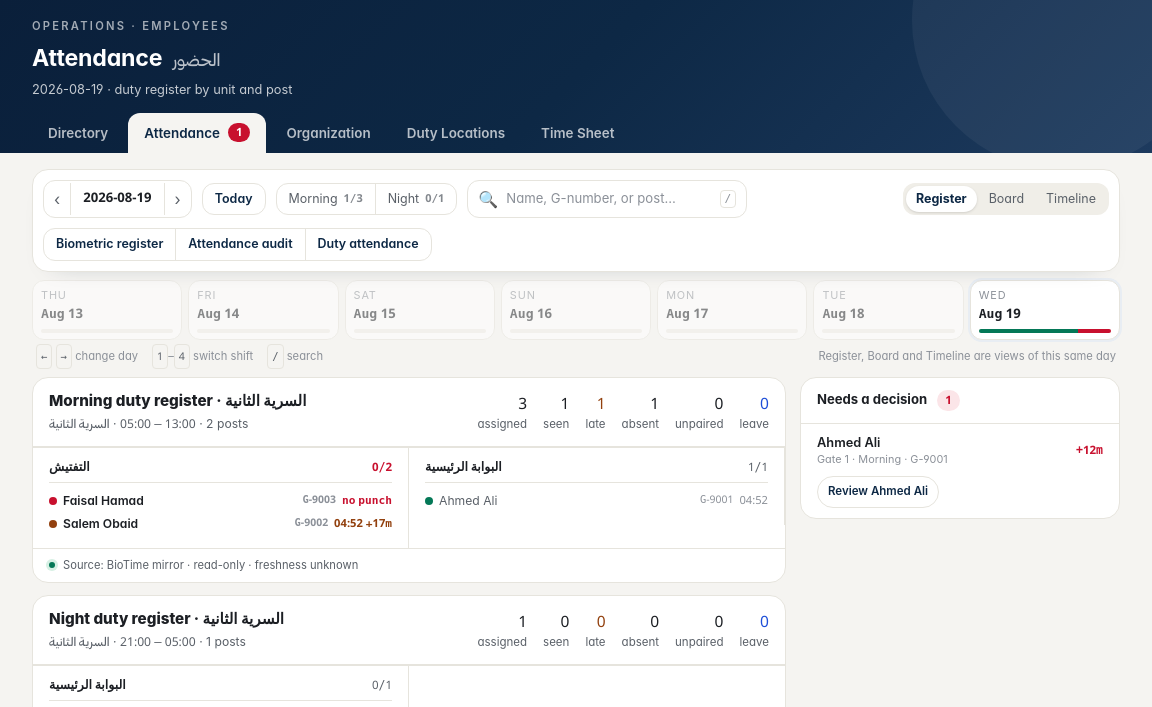
Test case: AttendancePage › switches to Board and Timeline without another request
Click the button "Board" at {"x": 1006, "y": 199}, box x1=979 y1=186 x2=1034 y2=212
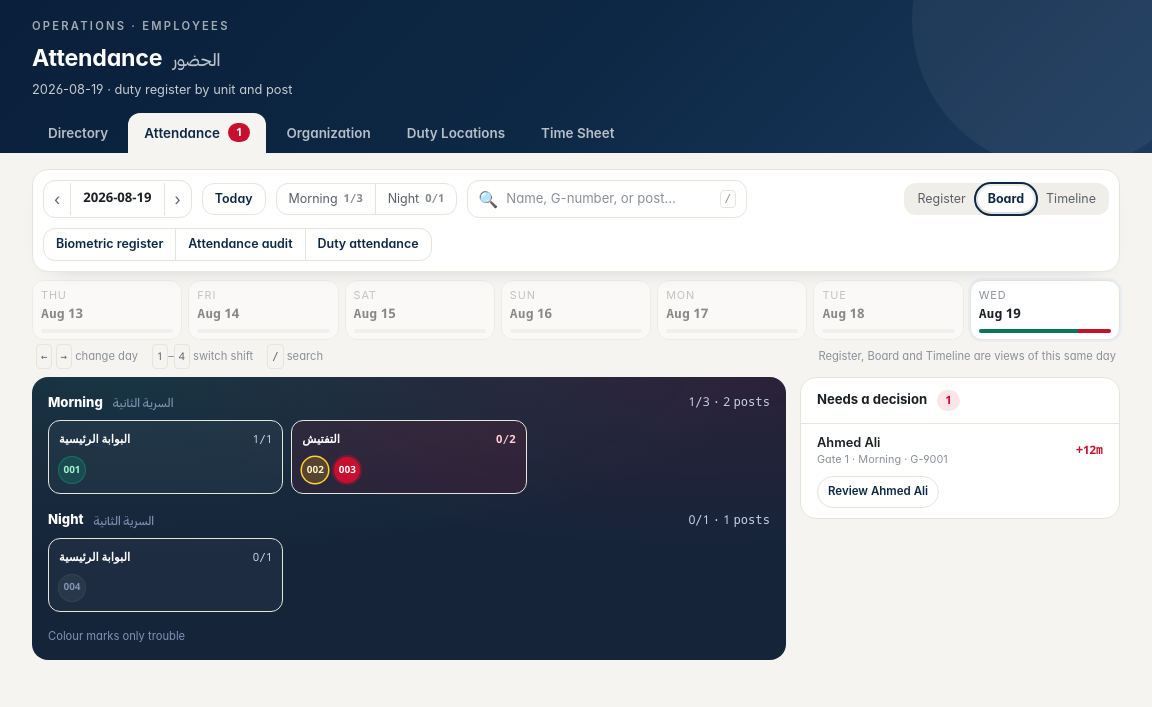
Expected: the element with test id "attendance-board" is shown, x1=32 y1=377 x2=786 y2=660
Click the button "Timeline" at {"x": 1071, "y": 199}, box x1=1036 y1=186 x2=1106 y2=212
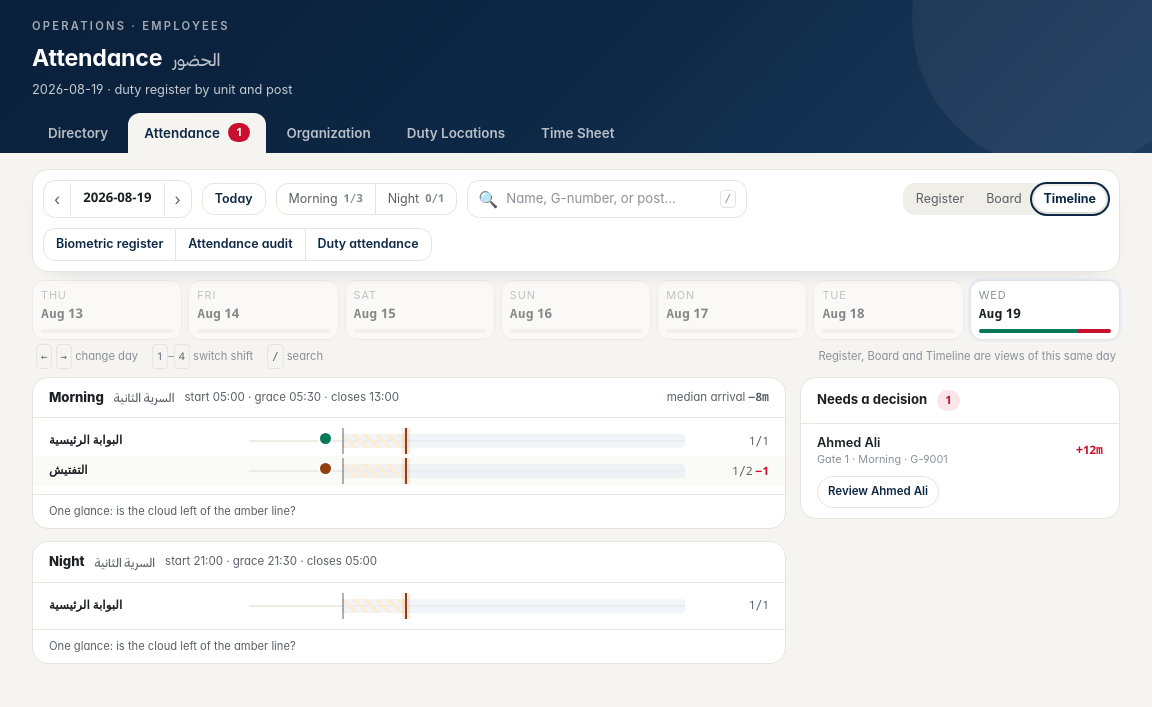
Expected: the number of elements with test id "attendance-timeline-unit" is 2, x1=32 y1=377 x2=786 y2=529; x1=32 y1=541 x2=786 y2=664
Expected: the 1st icon with test id "attendance-timeline-grace-line" is shown, x1=405 y1=428 x2=407 y2=454
